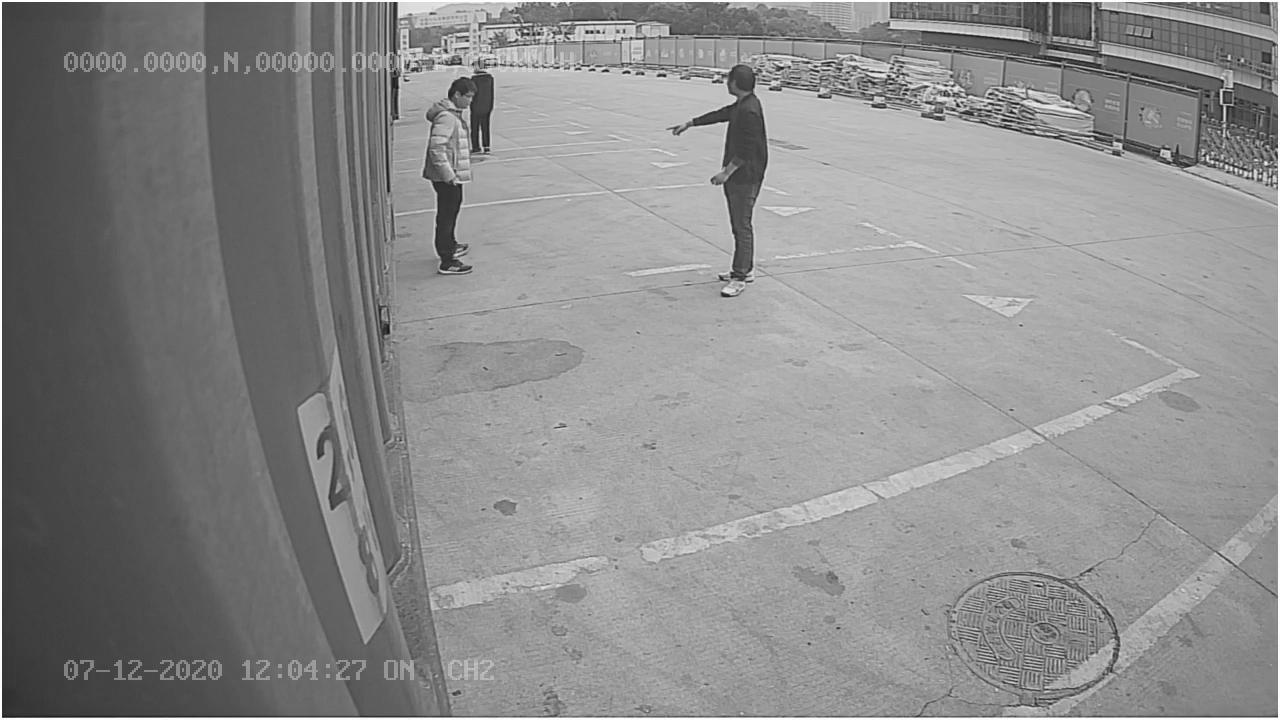person: (660, 59, 772, 301)
